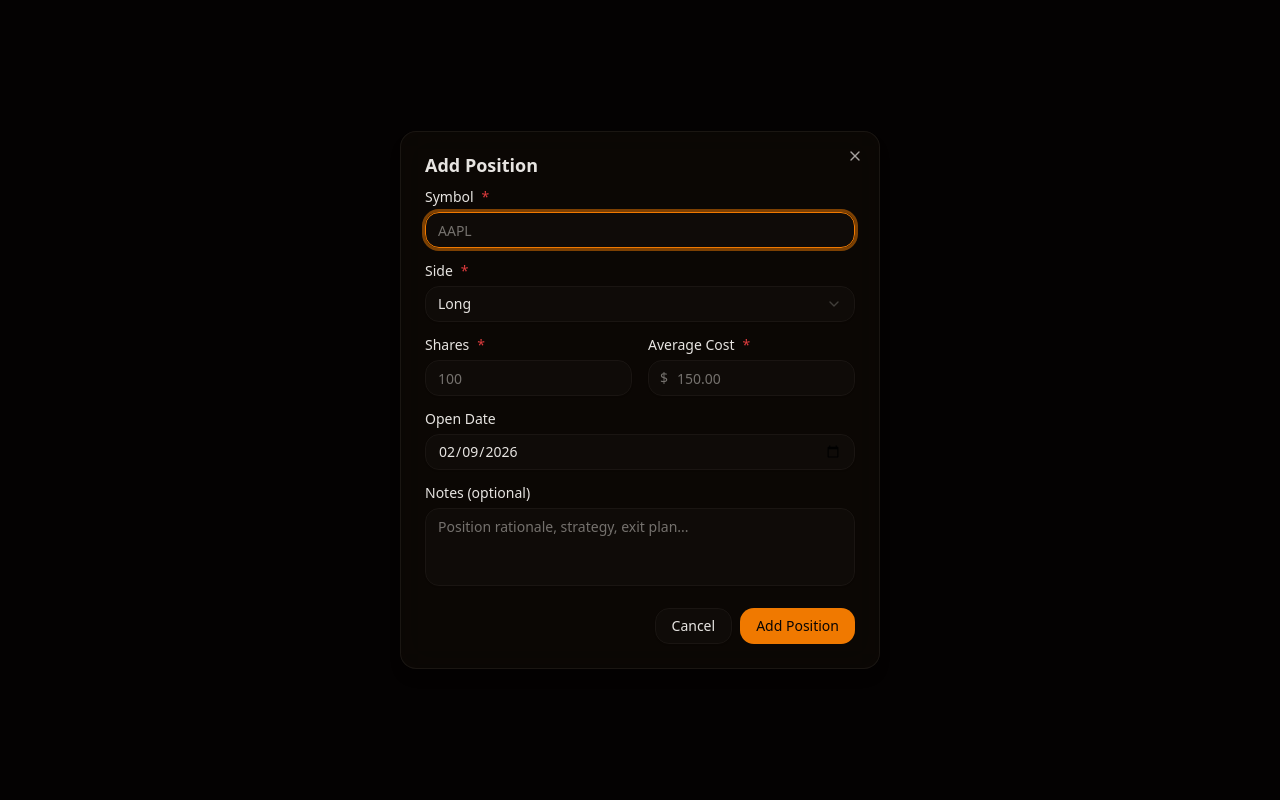
PositionEntryForm › Form Validation › clears error when user starts typing
Submit with empty symbol to trigger error
Step 1. Click the button "Add Position" → (798, 626), box [740, 608, 855, 644]
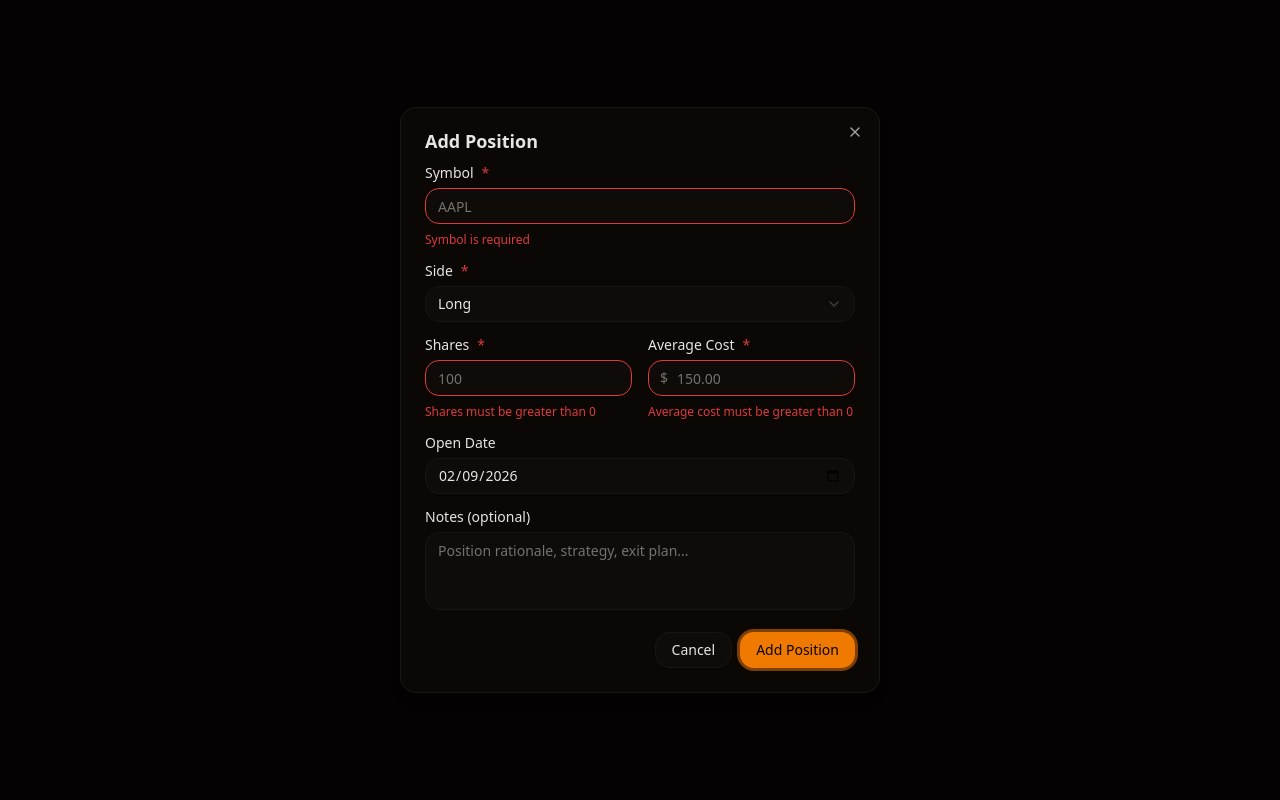
Expected: the text "Symbol is required" is shown, [425, 231, 530, 248]
Start typing to clear error
Step 2. Type "A" into the field labelled "Symbol *" → (640, 206), box [425, 188, 855, 224]
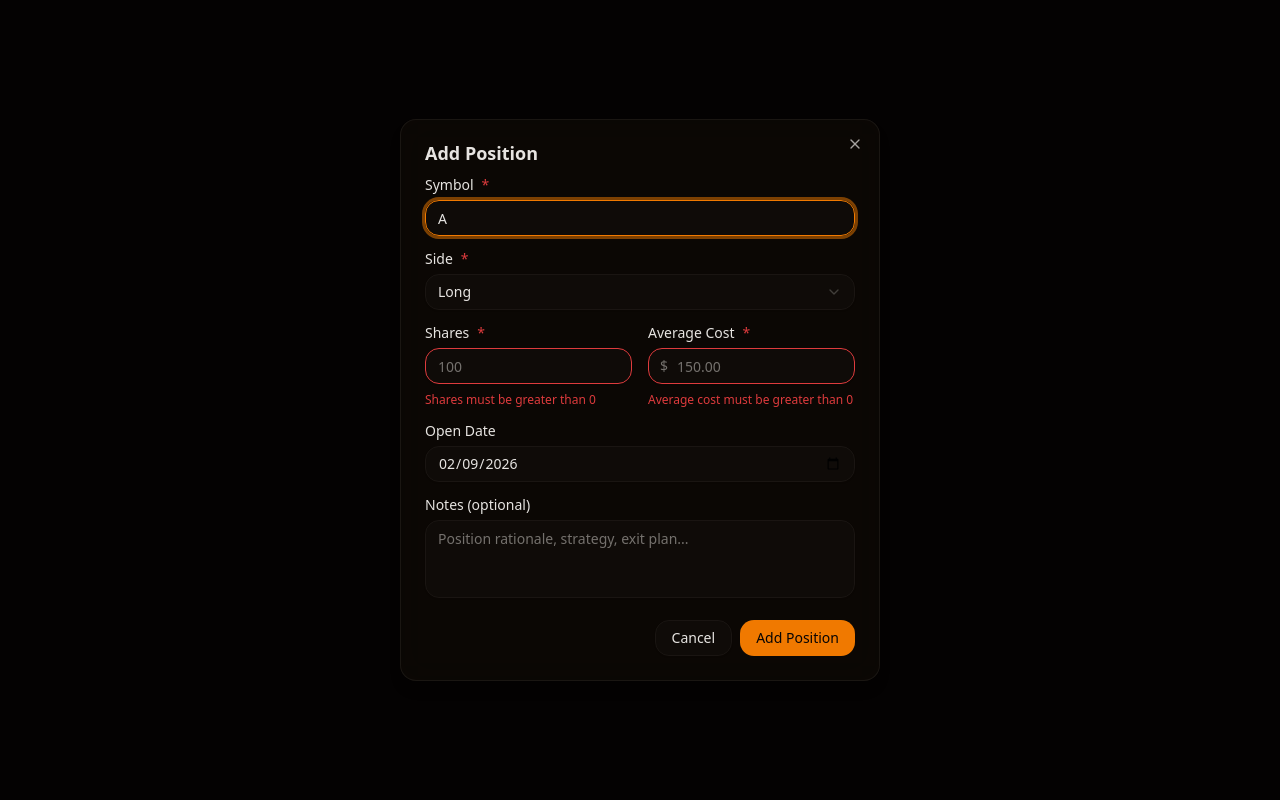
Expected: the text "Symbol is required" is gone
